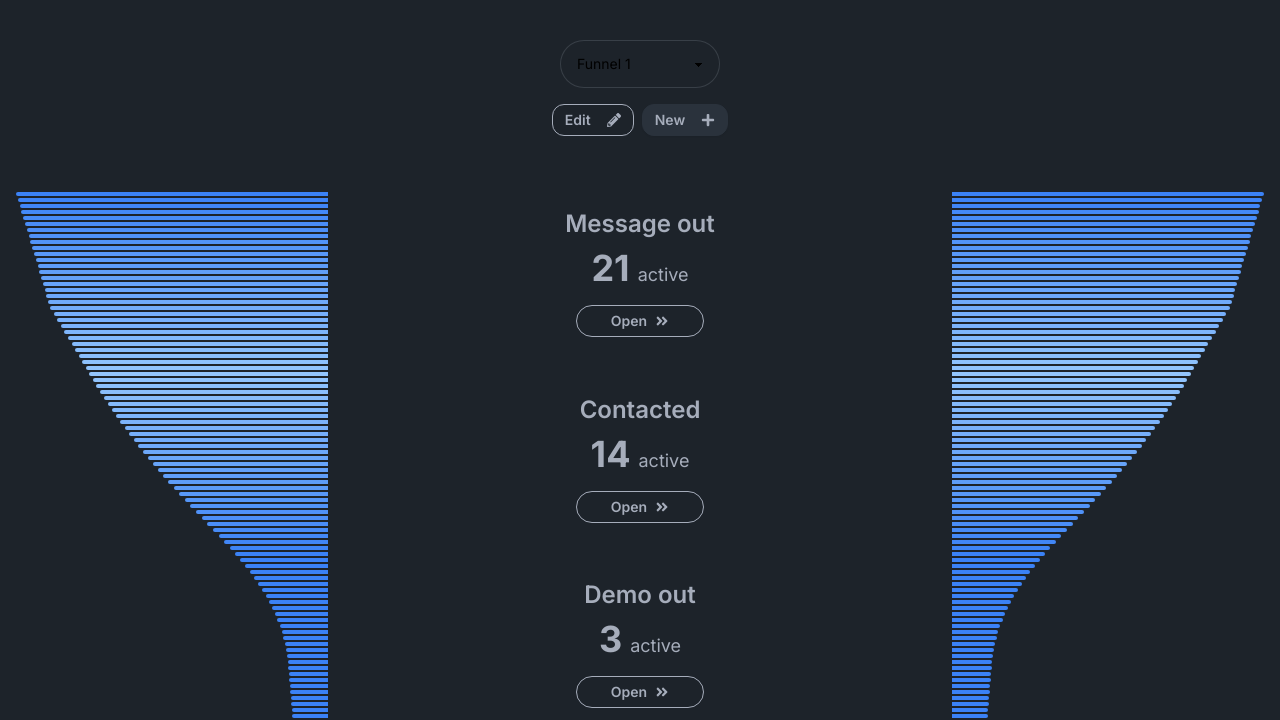
Dashboard › closes modal when back button is clicked
Click the button "Open" below "21": (640, 321) [576,305,704,337]
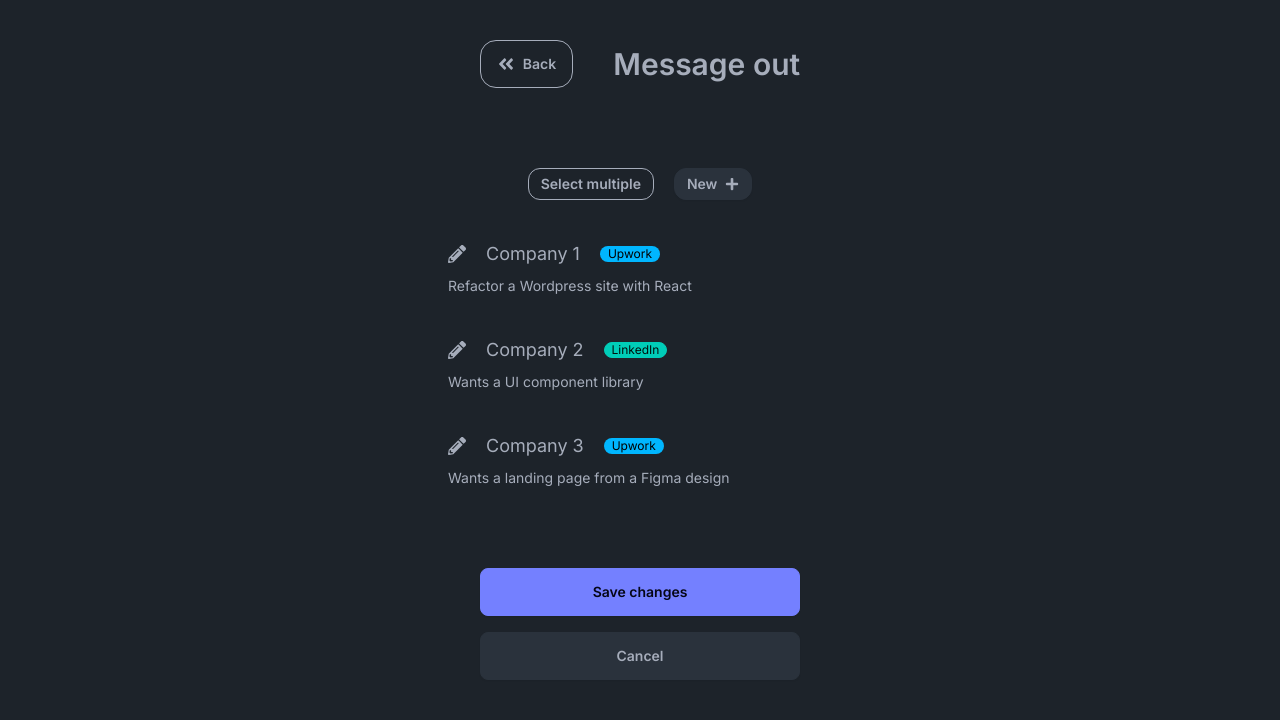
Click the button "Back": (526, 64) [480,40,573,88]
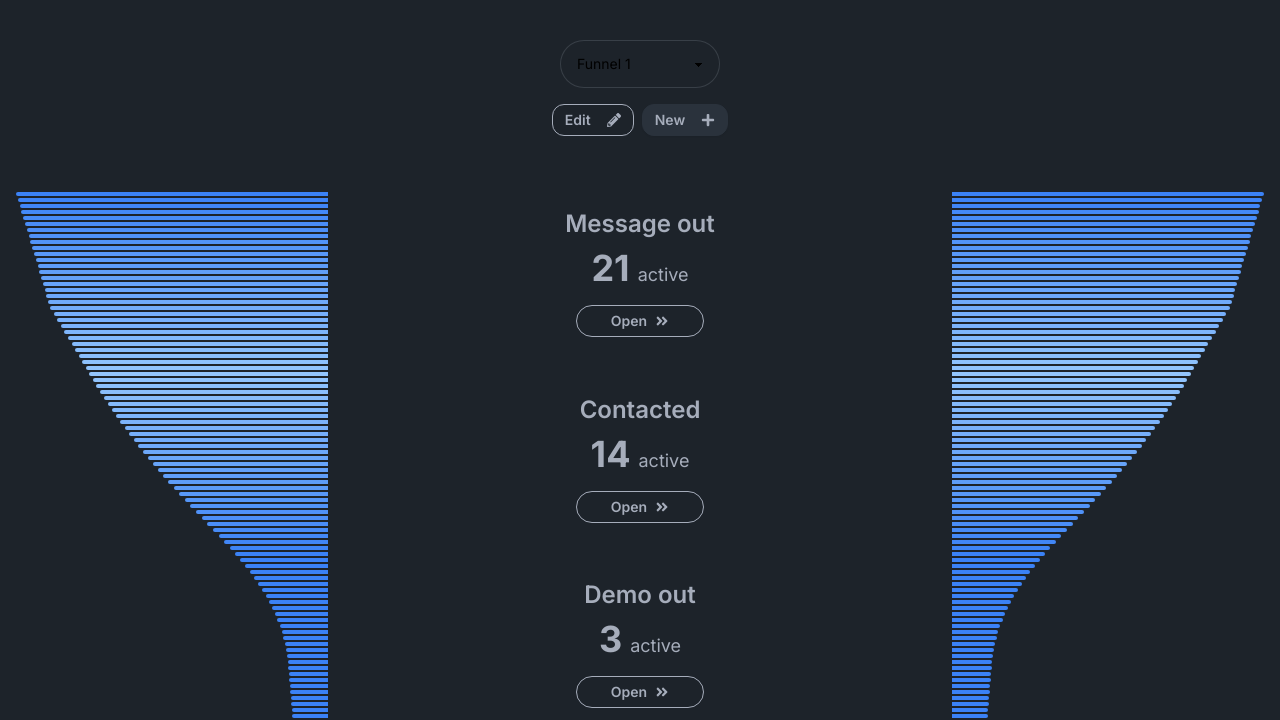
Expected: the button "Save changes" is gone
